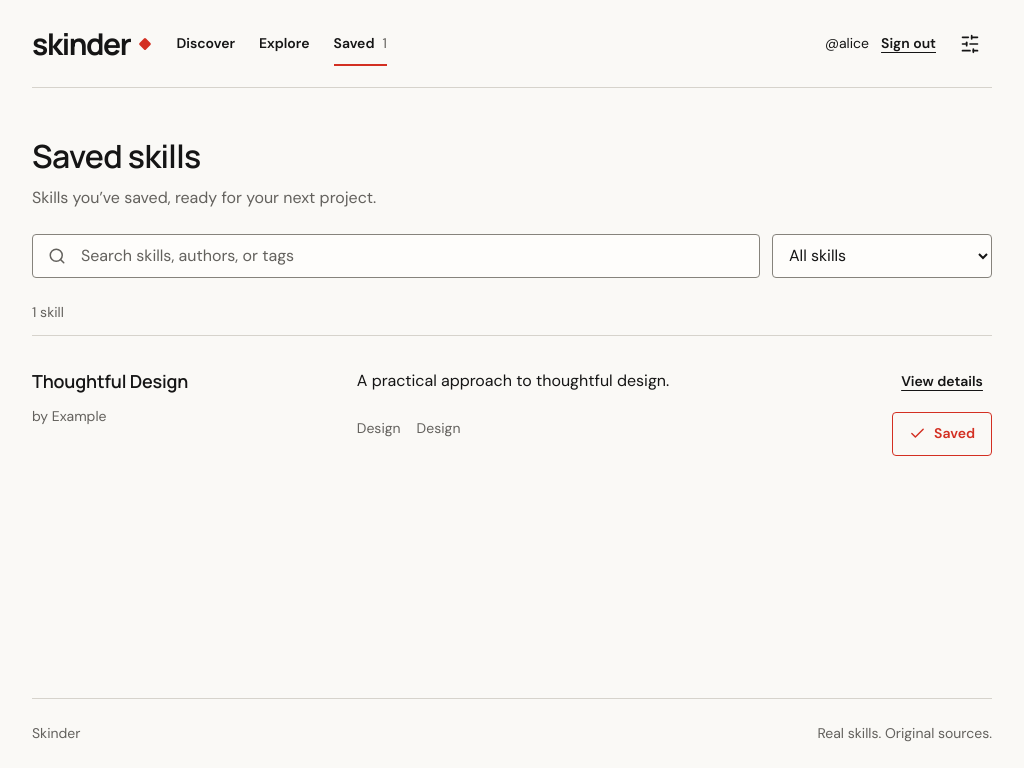
Test: saved library filters › keeps filters available when a saved collection has no matches
Expected: the heading "Thoughtful Design" is shown, [32,360,188,404]
Type "missing" into the field labelled "Search skills".
click(396, 256); type("missing")  # box [32,234,760,278]
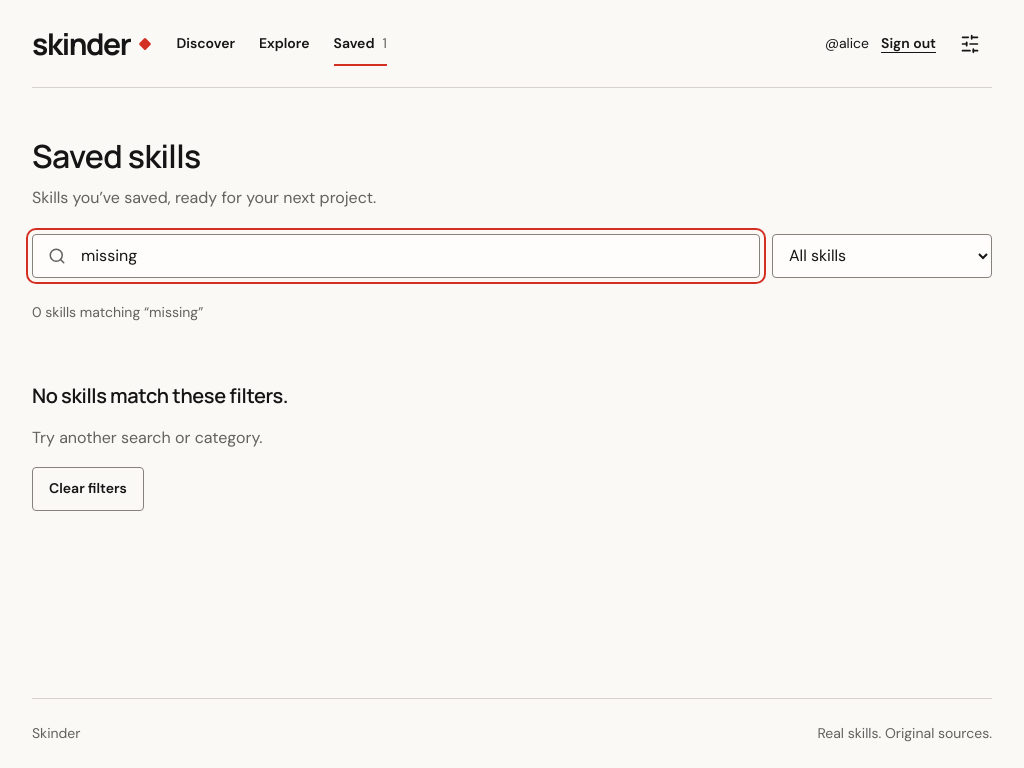
Expected: the dropdown named "Category" is shown, [772,234,992,278]
Now the button "Thoughtful Design" is gone
Click the button "Clear filters".
click(88, 489)  # box [32,467,144,511]
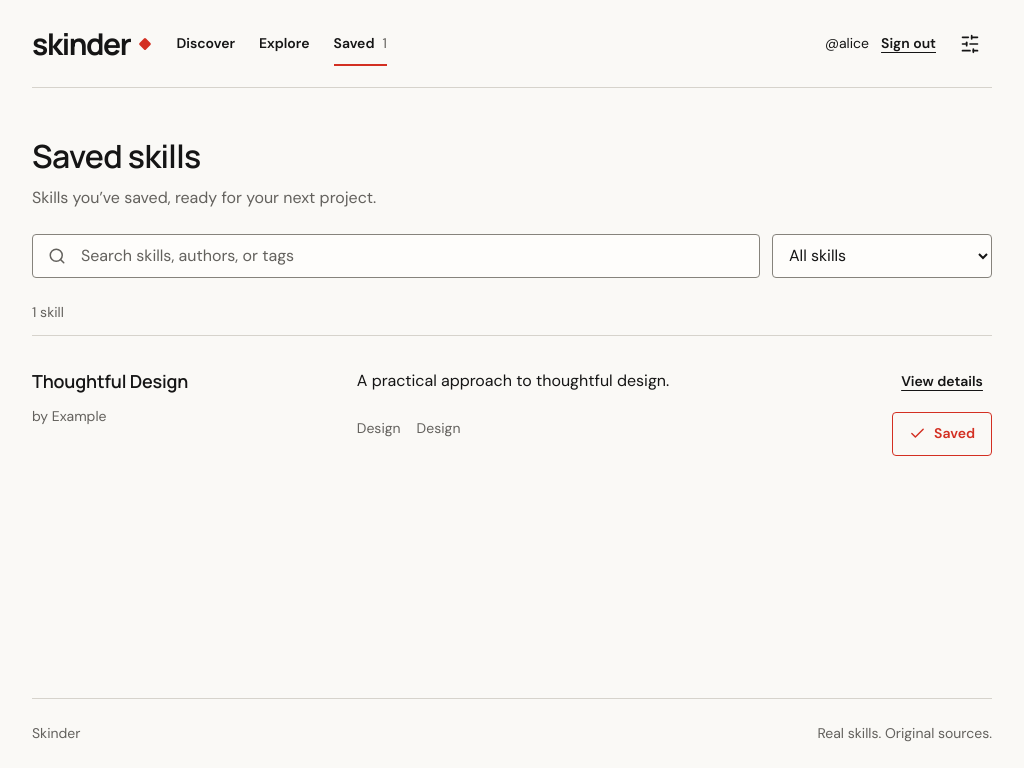
Now the heading "Thoughtful Design" is shown, box [32,360,188,404]
Now the field labelled "Search skills" is empty, box [32,234,760,278]
